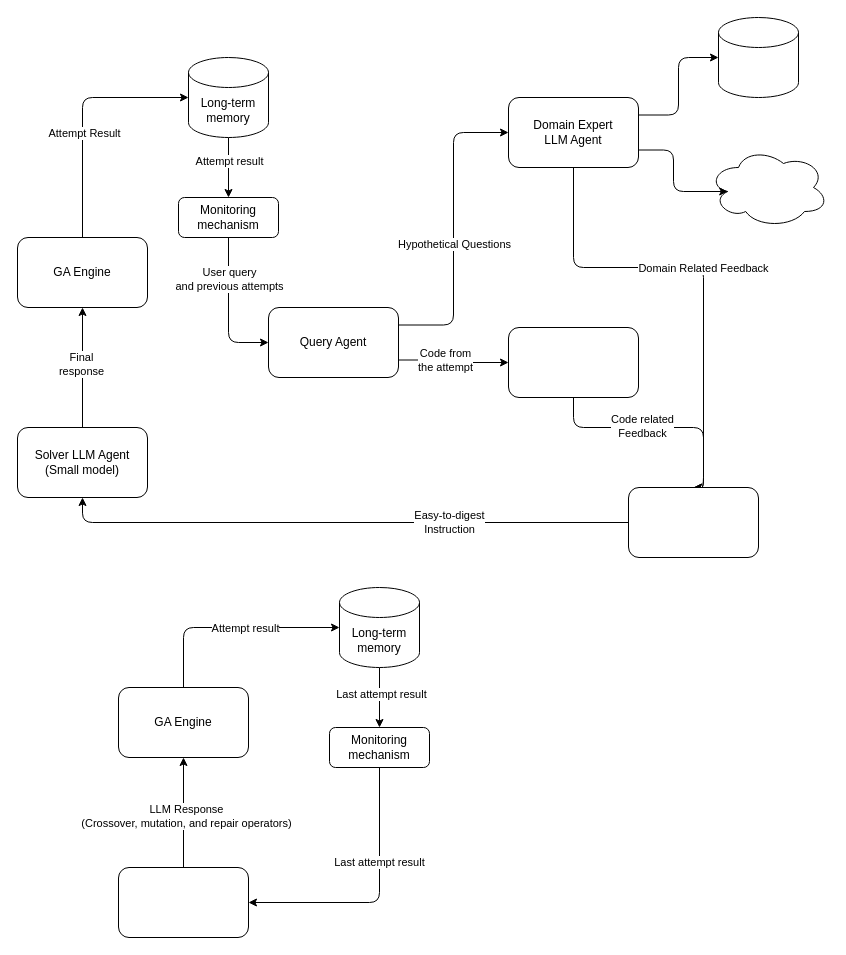
The diagram is 846 pixels wide and 955 high, and some of its shapes have lost their labels. The shapes that lost their labels are listed below. From the top down, each one's box as (x1, y1, x2, y2) in pixels, then its label:
(718, 16, 798, 98): Local Database
(708, 146, 828, 228): Internet
(508, 326, 638, 398): Coding Expert LLM Agent
(628, 486, 758, 558): Writer LLM Agent
(118, 866, 248, 938): LLM Agent
